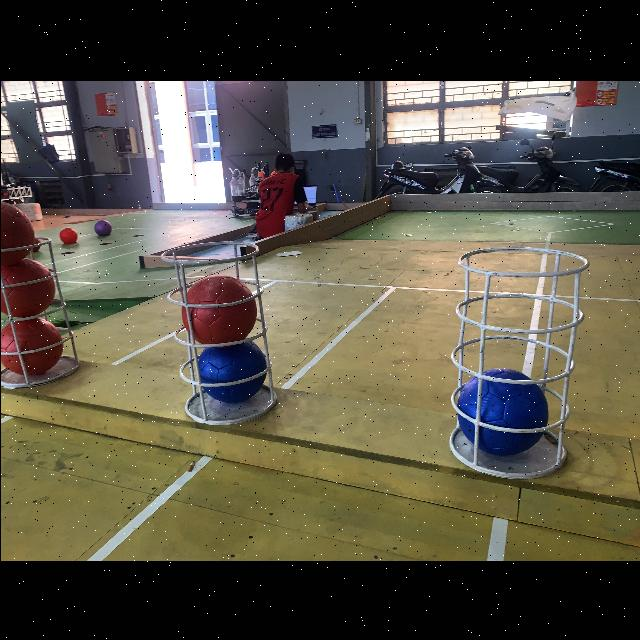B: (458, 368, 548, 454), (196, 336, 268, 402)
R: (180, 272, 256, 344), (0, 315, 64, 375), (0, 256, 56, 318), (0, 200, 36, 264)
